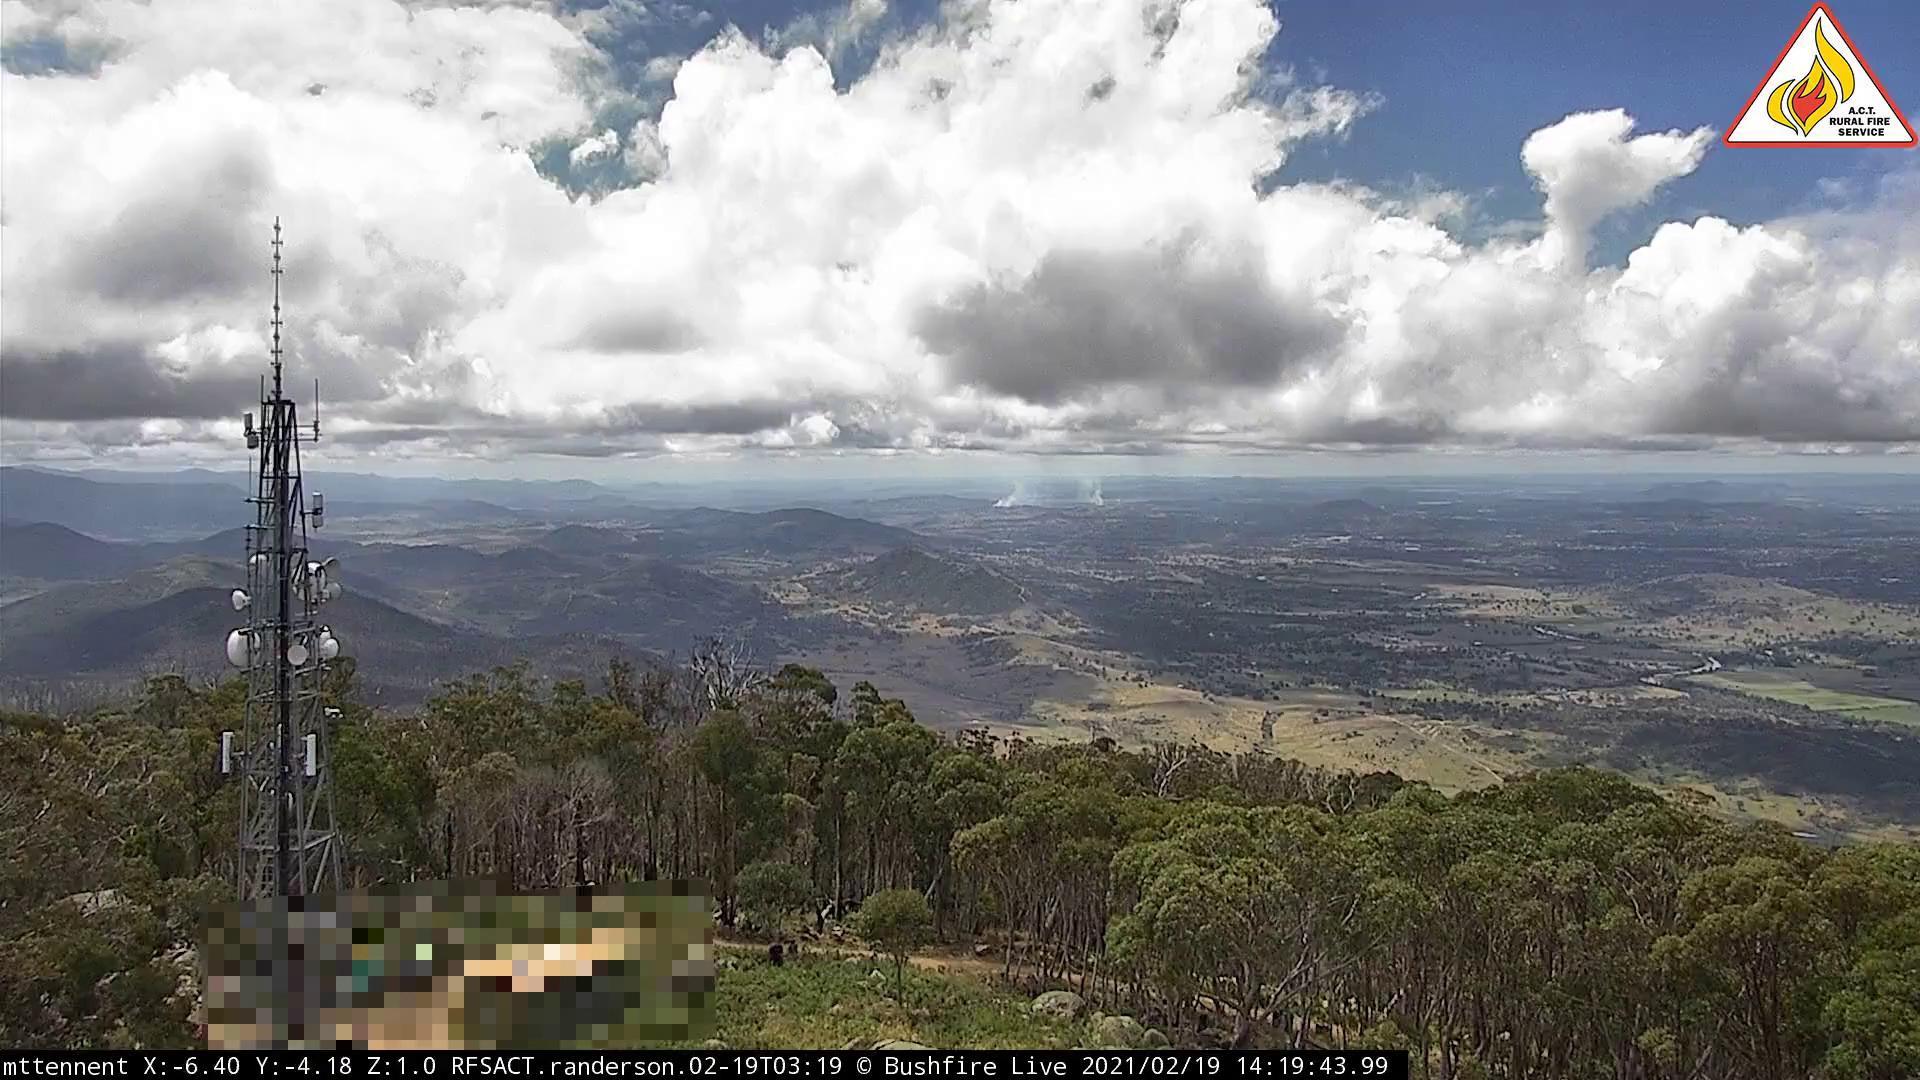Smoke: (990, 476, 1043, 510), (1077, 476, 1114, 512)
